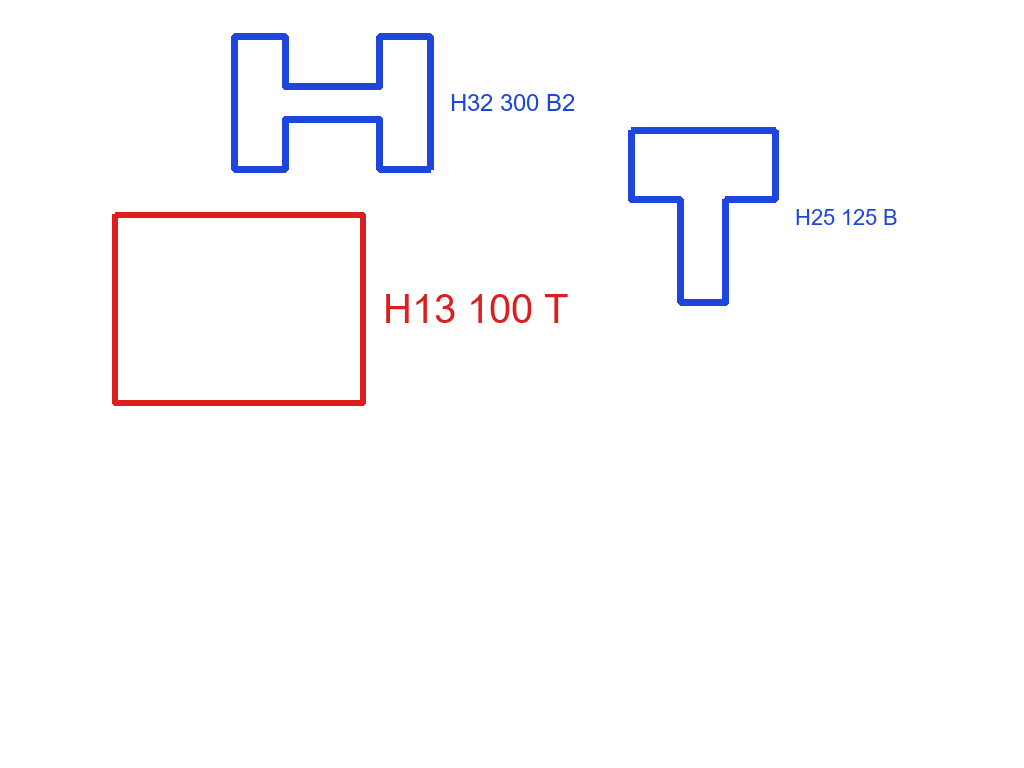shape: (110, 209, 368, 408), (229, 31, 436, 175), (626, 125, 781, 308)
text: (381, 292, 570, 325), (448, 92, 577, 113), (793, 207, 900, 227)
